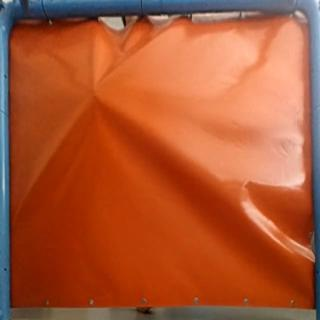Hit-hRxx: (88, 86, 106, 102)
